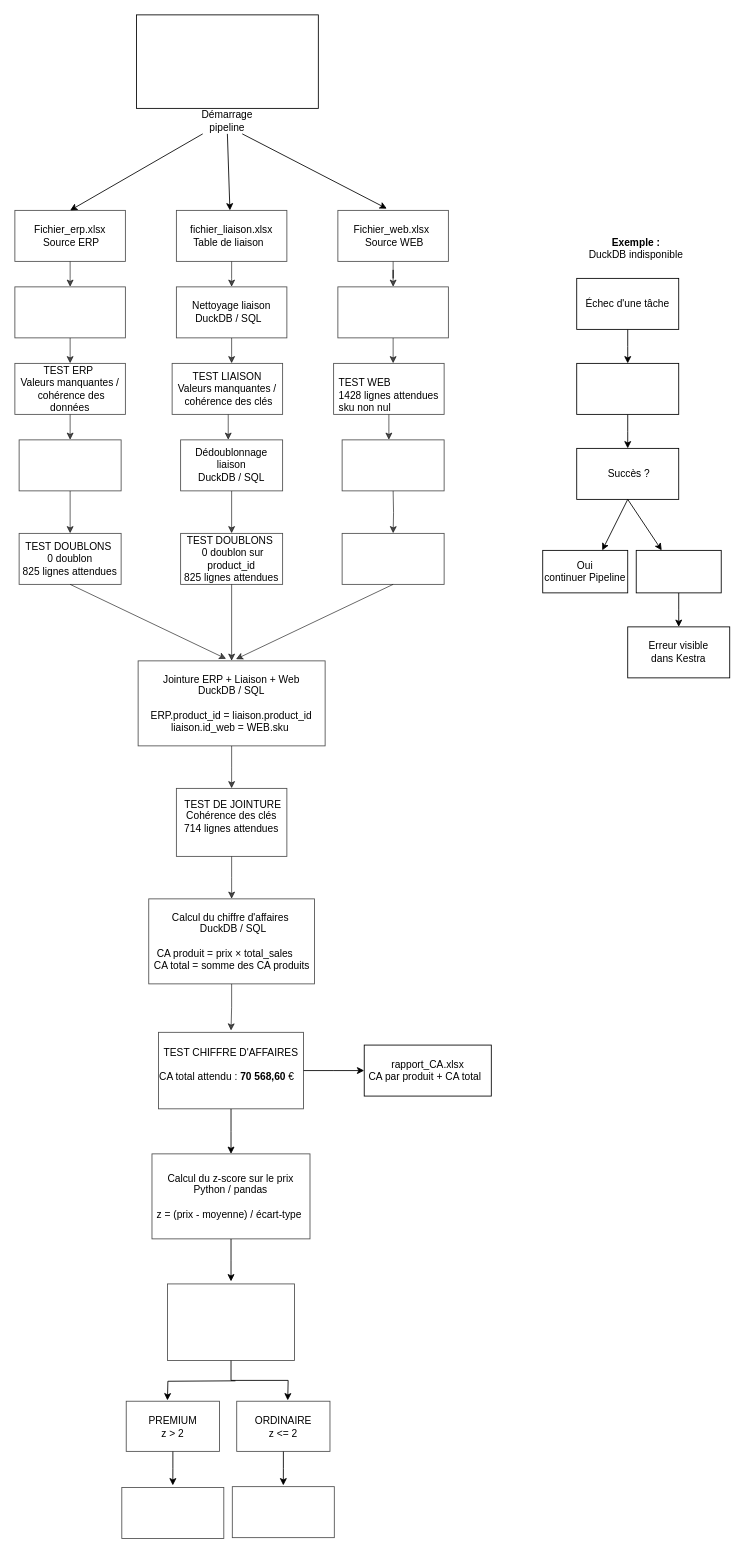
Image size: 745x1554. Some labels were removed from this diagram. The shapes that lost their labels are listed below. From the top down, each one's centre as x and y in pixels, then its label:
point 227,61: Trigger Cron Kestra Le 15 de chaque mois à 09h 0 9 15 * *
point 69,312: Nettoyage ERP DuckDB / SQL
point 392,312: Nettoyage Web Supprimer les sku manquants DuckDB / SQL
point 627,388: Retry Kestra Nouvelle tentative
point 69,465: Dédoublonnage ERP DuckDB / SQL
point 392,465: Dédoublonnage 1 ligne par sku DuckDB / SQL
point 392,558: TEST DOUBLONS 714 sku uniques 714 lignes attendues
point 678,571: Non Arrêt du Pipelinne
point 231,1321: TEST Z-SCORE 30 vins premium attendus règle : z > 2
point 172,1512: premium.csv
point 282,1512: ordinaires.csv
